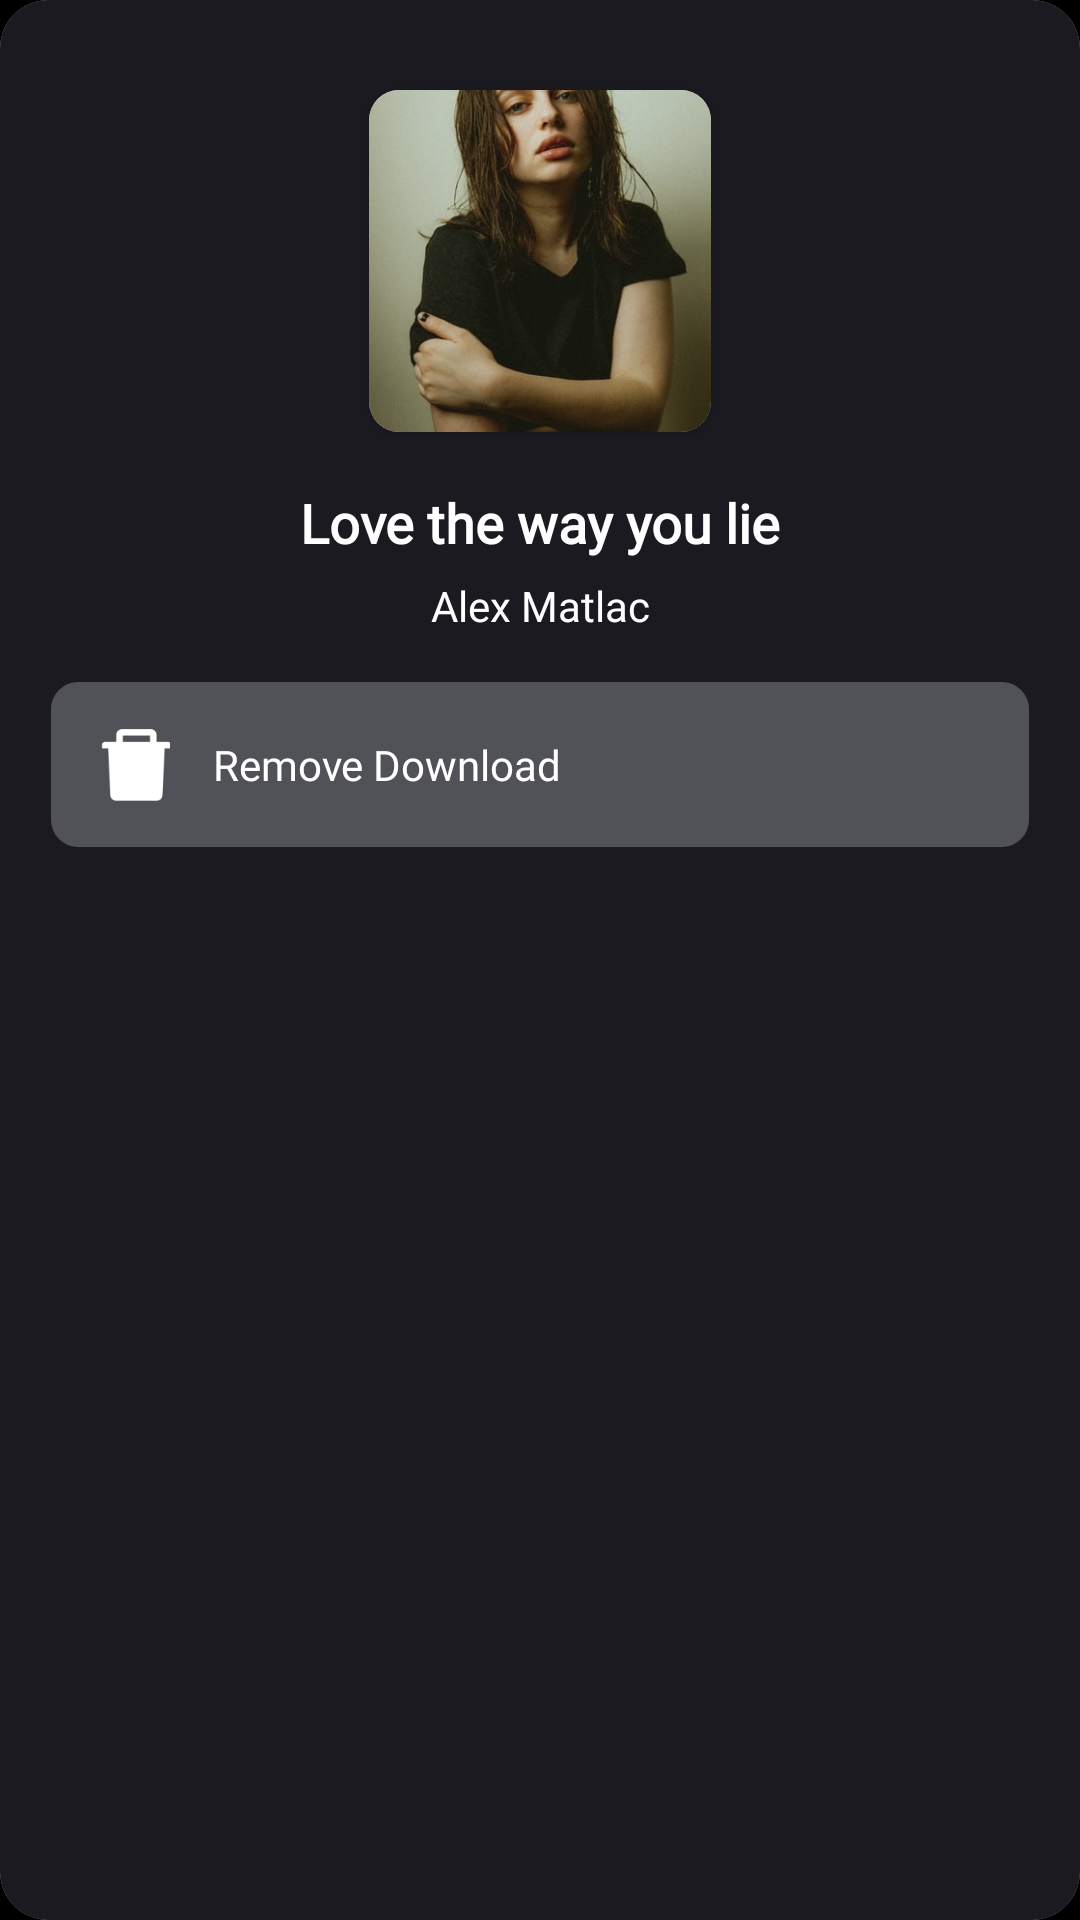

Icons on this 1080px×1920px Android screen, each with its box as (x1, y1, x2, y2):
delete: (101, 729, 170, 801)
